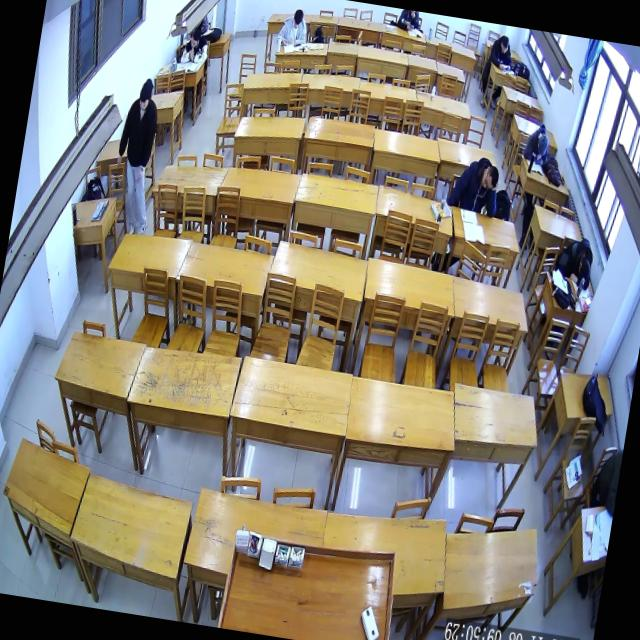bow: (556, 234, 596, 290)
down: (480, 164, 500, 192), (536, 134, 550, 156), (190, 28, 202, 48), (292, 10, 304, 30), (499, 36, 510, 54)
sit: (106, 76, 170, 238), (446, 154, 504, 219), (276, 7, 310, 49), (180, 25, 213, 67), (522, 122, 552, 166), (487, 34, 517, 72), (385, 22, 395, 32)
